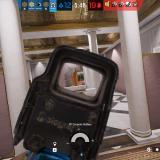Character: (82, 80, 85, 86)
Friend_label: (24, 102, 35, 108)
Head: (83, 81, 84, 82)
